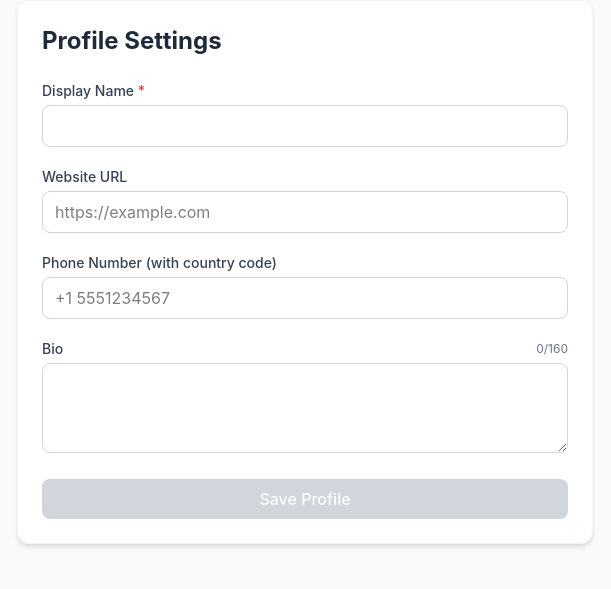
Test: Task 1: Profile Settings Form › shows error when URL lacks scheme (http/https)
Type "example.com" into the field labelled "Website URL" at (305, 212), box [42,191,568,233]
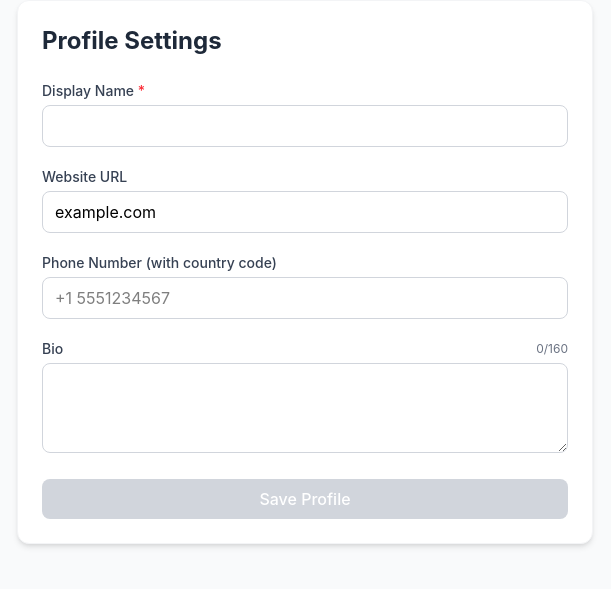
Leave the field labelled "Website URL", box [42,191,568,233]
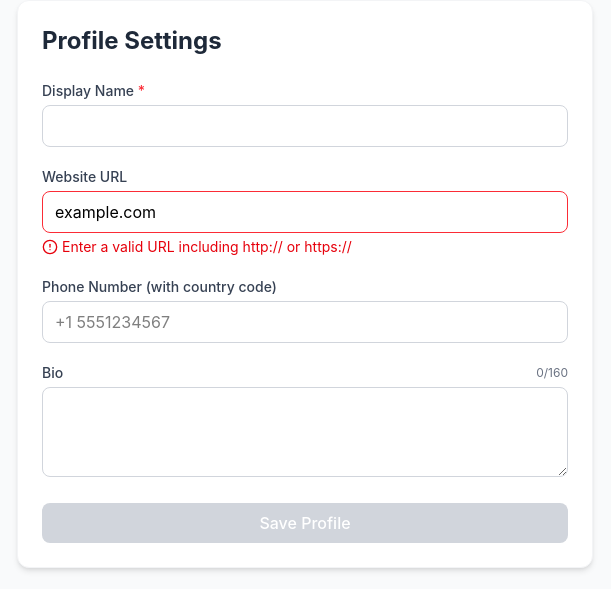
expect the text "Enter a valid URL including http:// or https://" is shown: met, box [62,237,352,257]
